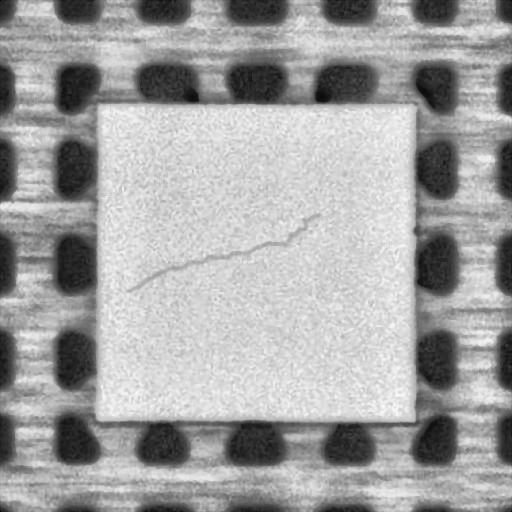DIE_CRACK: (124, 211, 324, 293)
